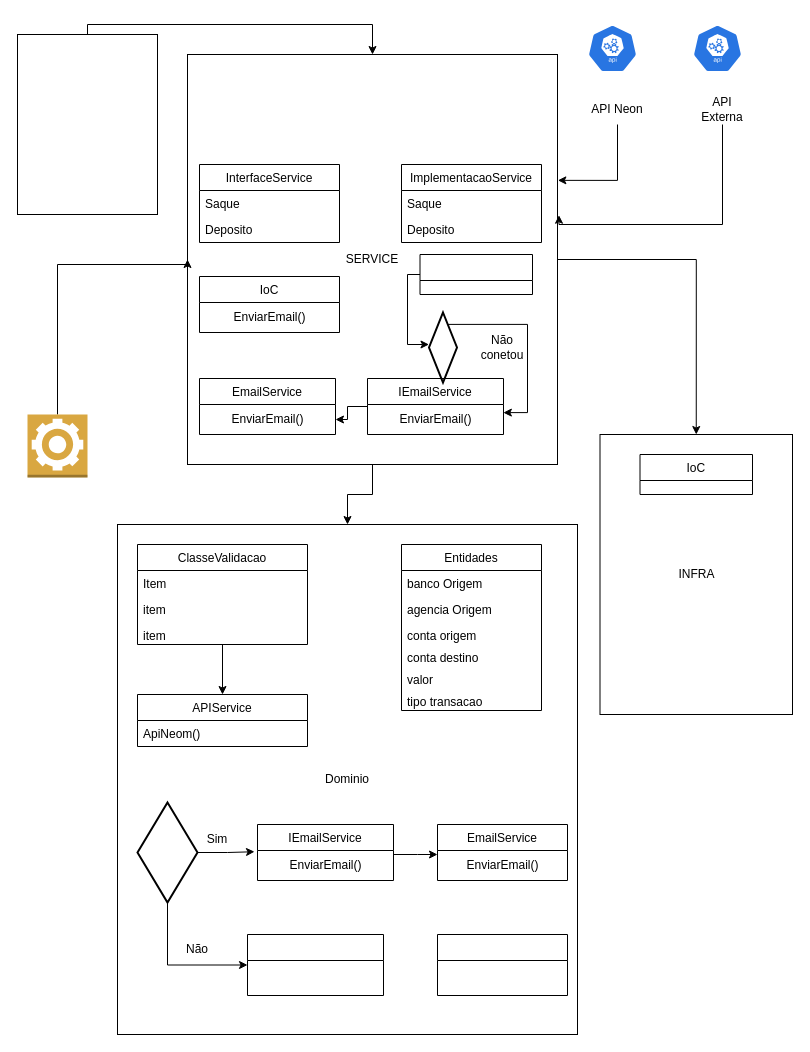
Image size: 810x1052. Some labels were removed from this diagram. The shapes that lost their labels are listed below. From the top down, each one's centre as x and y in pixels, then its label:
the point at 87,124: Apresentation
the point at 475,274: Retry
the point at 443,347: ApiExterna
the point at 167,852: validacao
the point at 315,965: ILogService
the point at 502,965: LogService
